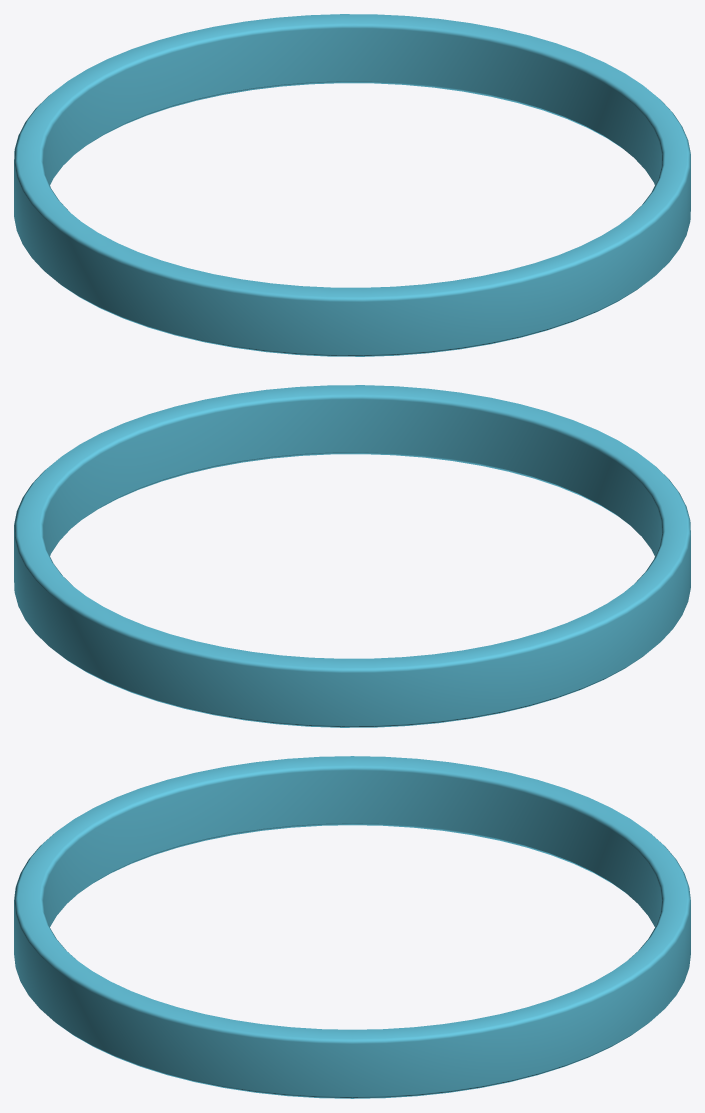
3 views of the same model, one above another, from view 1: azimuth 30°, elevation 25°; view 2: azimuth 150°, elevation 25°; view 3: azimuth 270°, elevation 25° (orthographic).
Parts seen in each view (by area): view 1: seal_body; view 2: seal_body; view 3: seal_body.
Part boxes in pixels (x1,y1,x2,y2): seal_body: [14, 14, 690, 356]; seal_body: [14, 385, 690, 727]; seal_body: [14, 756, 690, 1098].
Size of the model in its own units: 0.1461 by 0.0143 by 0.1461.
